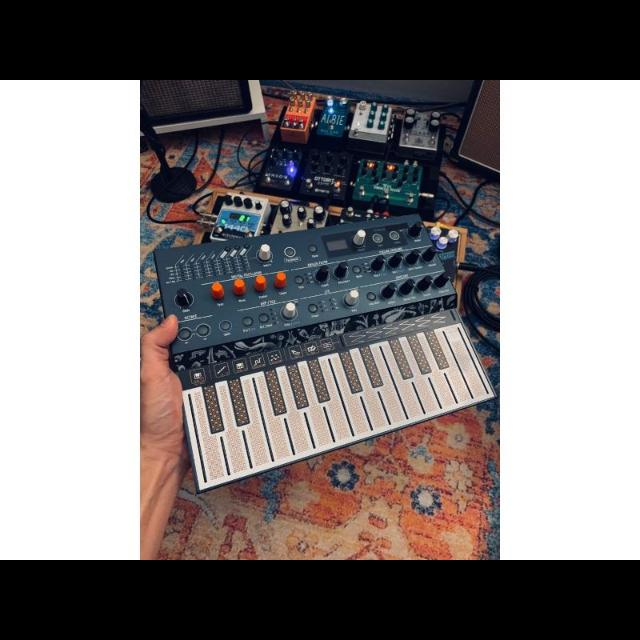Electronic-Keyboard: (154, 238, 474, 470)
